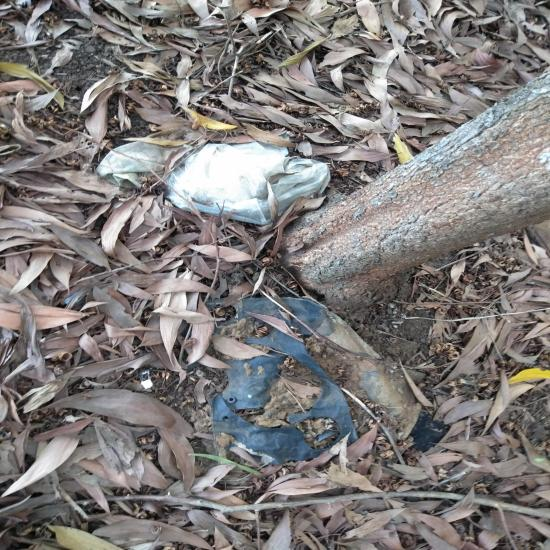Disposable plastic cup: (200, 266, 532, 462)
